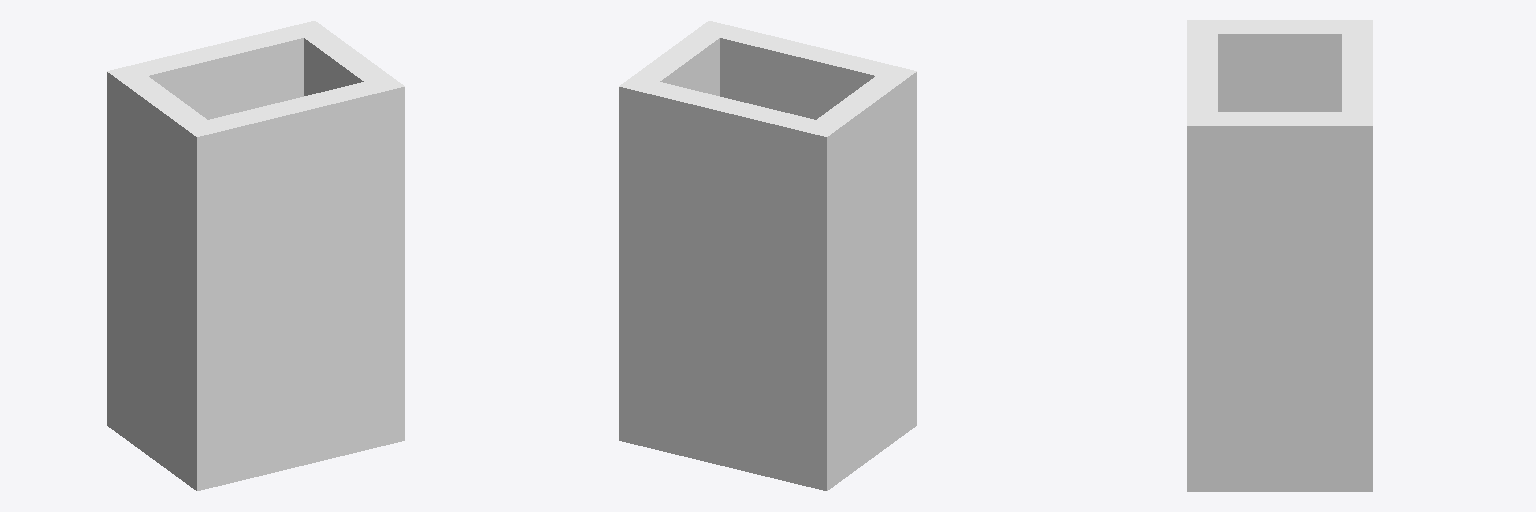
The robot description file, URDF, robot "custom_bin":
<?xml version='1.0' encoding='UTF-8'?>
<robot name="custom_bin">
  <link name="base_link">
    <inertial>
      <origin xyz="0.0000E+00 0.0000E+00 2.5357E-01" rpy="0.0000E+00 0.0000E+00 0.0000E+00"/>
      <mass value="1.0000E+00"/>
      <inertia ixx="2.0895E-03" ixy="-0.0000E+00" ixz="-5.7824E-20" iyy="2.3945E-03" iyz="-0.0000E+00" izz="1.2350E-03"/>
    </inertial>
    <visual>
      <origin xyz="0.0000E+00 0.0000E+00 0.0000E+00" rpy="0.0000E+00 0.0000E+00 0.0000E+00"/>
      <geometry>
        <mesh filename="a3a789b4317228998612fca6679faf43.stl" scale="1.0000E+00 1.0000E+00 1.0000E+00"/>
      </geometry>
      <material name="undefined">
        <color rgba="1.0000E+00 1.0000E+00 1.0000E+00 1.0000E+00"/>
      </material>
    </visual>
    <collision>
      <origin xyz="0.0000E+00 0.0000E+00 -2.5000E-02" rpy="0.0000E+00 0.0000E+00 0.0000E+00"/>
      <geometry>
        <box size="4.0000E-01 3.0000E-01 5.0000E-02"/>
      </geometry>
    </collision>
    <collision>
      <origin xyz="1.7500E-01 0.0000E+00 2.7500E-01" rpy="0.0000E+00 0.0000E+00 0.0000E+00"/>
      <geometry>
        <box size="5.0000E-02 3.0000E-01 6.5000E-01"/>
      </geometry>
    </collision>
    <collision>
      <origin xyz="-1.7500E-01 0.0000E+00 2.7500E-01" rpy="0.0000E+00 0.0000E+00 0.0000E+00"/>
      <geometry>
        <box size="5.0000E-02 3.0000E-01 6.5000E-01"/>
      </geometry>
    </collision>
    <collision>
      <origin xyz="0.0000E+00 1.2500E-01 2.7500E-01" rpy="0.0000E+00 0.0000E+00 0.0000E+00"/>
      <geometry>
        <box size="4.0000E-01 5.0000E-02 6.5000E-01"/>
      </geometry>
    </collision>
    <collision>
      <origin xyz="0.0000E+00 -1.2500E-01 2.7500E-01" rpy="0.0000E+00 0.0000E+00 0.0000E+00"/>
      <geometry>
        <box size="4.0000E-01 5.0000E-02 6.5000E-01"/>
      </geometry>
    </collision>
    <contact>
      <lateral_friction value="7.0000E-01"/>
      <rolling_friction value="1.0000E-03"/>
      <spinning_friction value="1.0000E-02"/>
      <restitution value="0.0000E+00"/>
    </contact>
  </link>
</robot>

--- What the picture shows (computed from the rendered views, not written in the file) ---
Views: 3 orthographic renders of the robot side by side, from view 1: azimuth 30°, elevation 25°; view 2: azimuth 150°, elevation 25°; view 3: azimuth 270°, elevation 25°.
Model custom_bin with 1 links and 0 joints (none), rooted at base_link, posed all joints at 0.
Links seen in each view (by area): view 1: base_link; view 2: base_link; view 3: base_link.
Link boxes in pixels (x1,y1,x2,y2): base_link: [107, 21, 404, 490]; base_link: [619, 21, 916, 490]; base_link: [1187, 20, 1372, 491].
Size in the robot's own frame: 0.4 by 0.3 by 0.65 metres.
Meshes: 1 distinct files referenced, 1 mesh visuals loaded (1 binary STL).